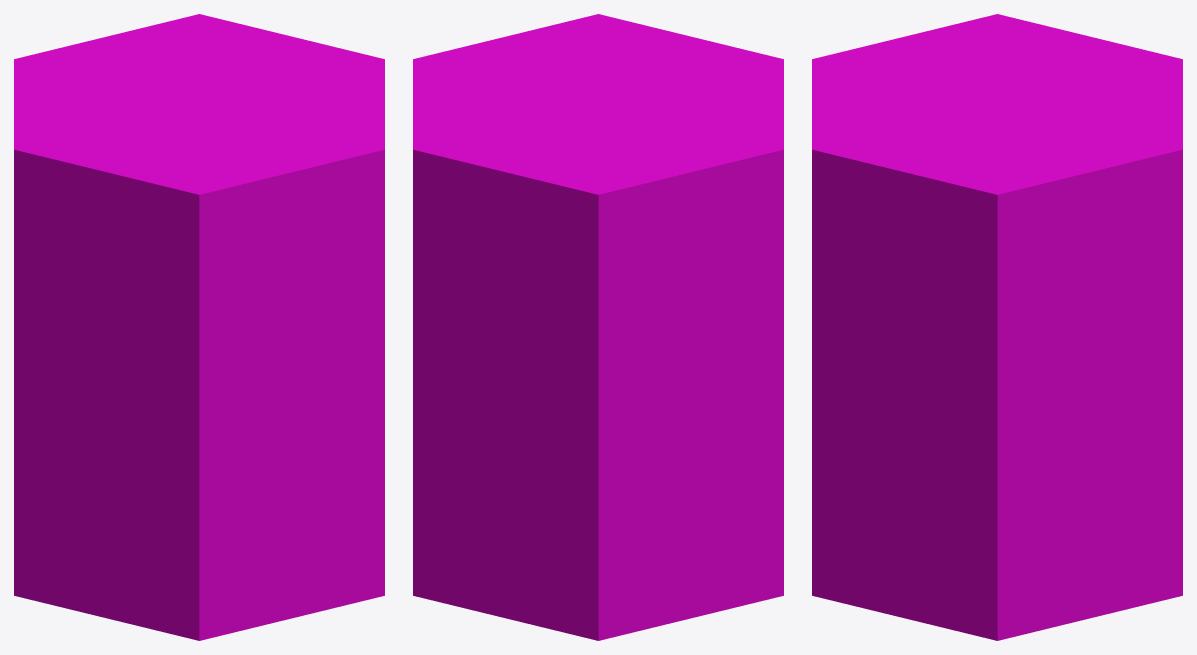
The model's file is GB_Village_House_01.fbx.
3 views of the same model, side by side, from view 1: azimuth 30°, elevation 25°; view 2: azimuth 150°, elevation 25°; view 3: azimuth 270°, elevation 25° (orthographic).
Visible parts, largest first — view 1: Village_House_01; view 2: Village_House_01; view 3: Village_House_01.
Part boxes in pixels (x1,y1,x2,y2): Village_House_01: (14,14,384,640); Village_House_01: (413,14,783,640); Village_House_01: (812,14,1182,640).
Size of the model in its own units: 141 by 163 by 123.
